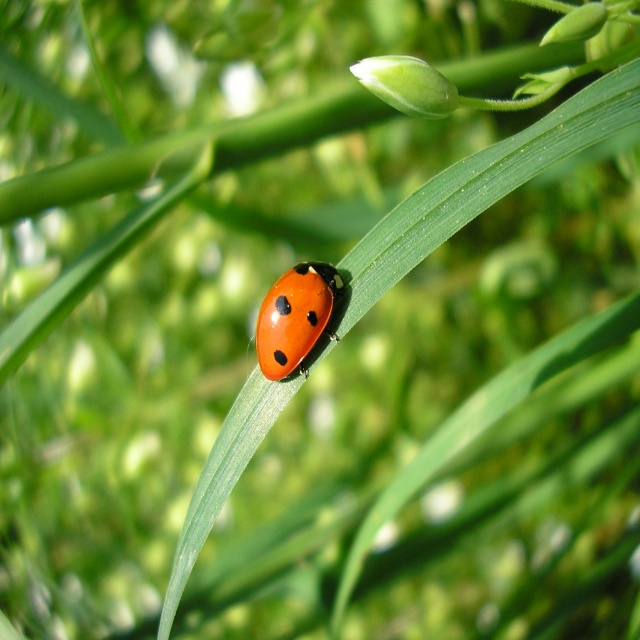Ladybug: (255, 261, 346, 381)
